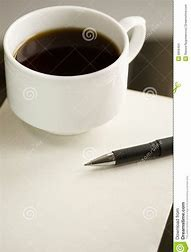pen: (84, 130, 174, 169)
